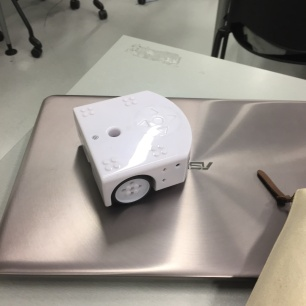thymio: (69, 88, 194, 211)
